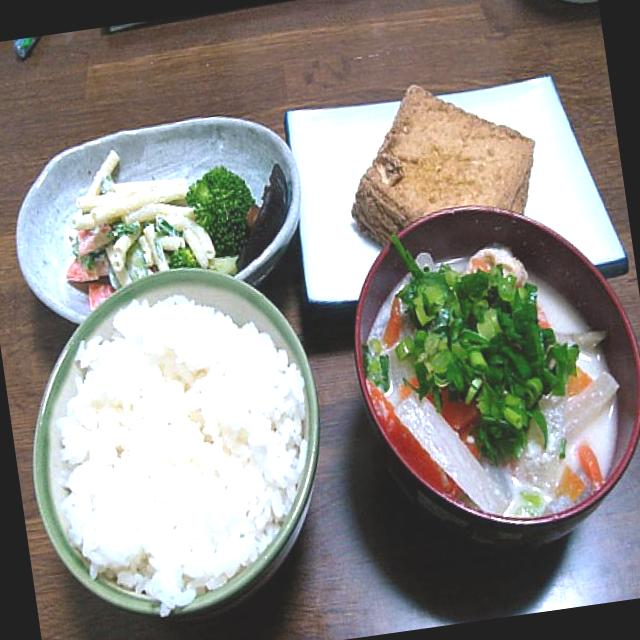Rice: (55, 290, 316, 602)
